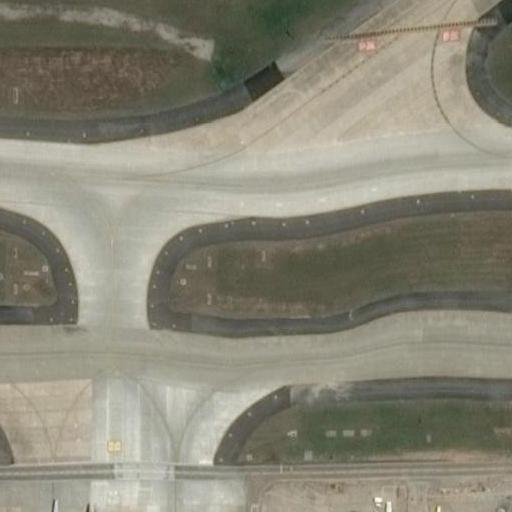Aircraft: (9, 494, 101, 512), (268, 507, 353, 512)
